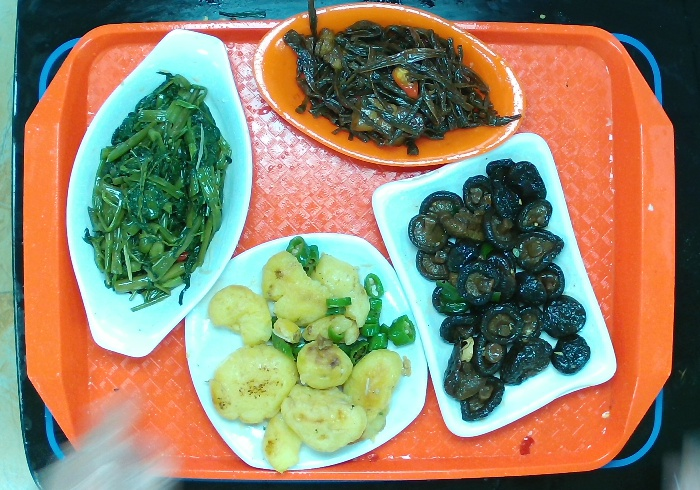RJxy-Ju_Huang_Tuo_Yuan: (252, 2, 532, 171)
RJxy-Si_Fang_Ao_Bian_Wan: (368, 128, 622, 439)
RJxy-Si_Fang_Die: (175, 224, 432, 475)
RJxy-Yu_Pan: (63, 24, 258, 362)
